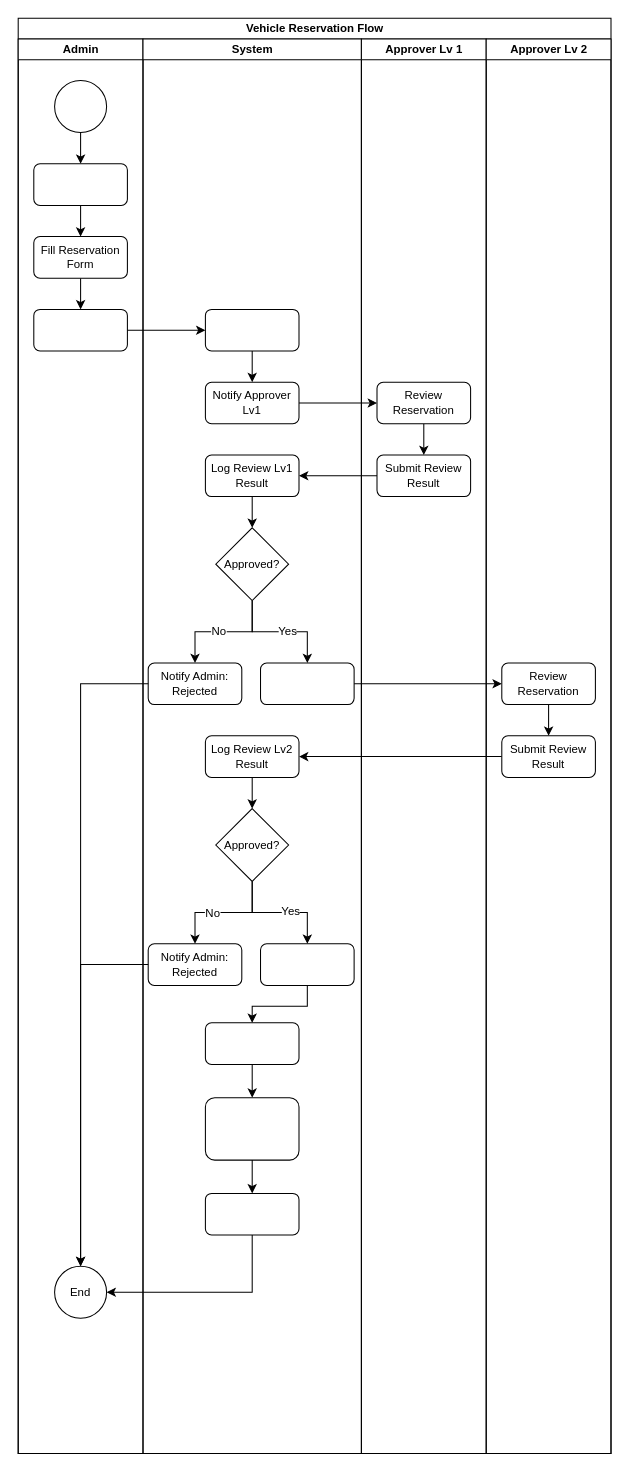
Some shapes in this 629 by 1472 pixel diagram are drawn without their labels. The shapes that lost their labels are listed below. From the top down, each one's box as (x1, y1, x2, y2) in pixels, then its label:
(54, 80, 107, 133): Start
(33, 163, 127, 205): Login
(33, 308, 127, 351): Submit Reservation
(204, 308, 299, 351): Log Reservation Request
(259, 662, 354, 705): Notify Approver Lv2
(259, 943, 354, 985): Log Approval
(204, 1022, 299, 1064): Vehicle reserved
(204, 1097, 299, 1160): System logs vehicle usage to dashboard + exportable logs
(204, 1192, 299, 1235): Notify Admin: Accepted
